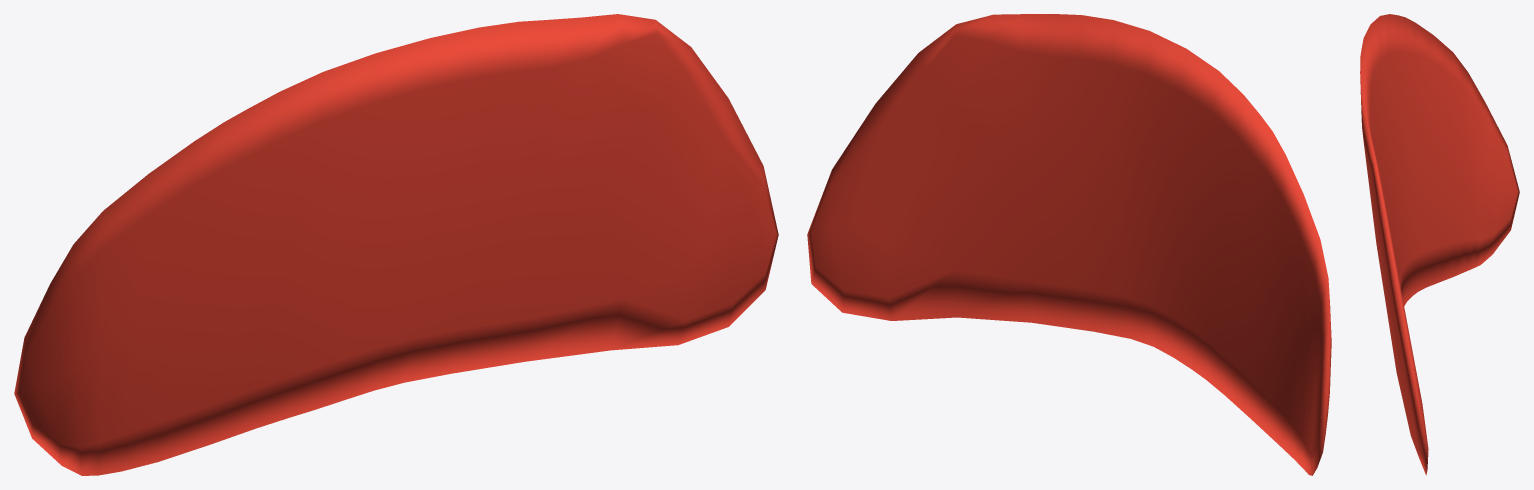
The model's file is Articularis_genus_origin_right.glb.
The picture shows the model from 3 angles, left to right: view 1: azimuth 30°, elevation 25°; view 2: azimuth 150°, elevation 25°; view 3: azimuth 270°, elevation 25°; orthographic projection. The views are drawn at different scales.
Parts seen in each view (by area): view 1: Origin_of_articularis_genus.r_Generated_Mesh_From_X3D.850; view 2: Origin_of_articularis_genus.r_Generated_Mesh_From_X3D.850; view 3: Origin_of_articularis_genus.r_Generated_Mesh_From_X3D.850.
Part boxes in pixels (x1,y1,x2,y2): Origin_of_articularis_genus.r_Generated_Mesh_From_X3D.850: [14, 14, 778, 475]; Origin_of_articularis_genus.r_Generated_Mesh_From_X3D.850: [807, 14, 1331, 475]; Origin_of_articularis_genus.r_Generated_Mesh_From_X3D.850: [1360, 14, 1519, 475].
Bounding box in the file's own units: 0.0233 × 0.0136 × 0.00595.
